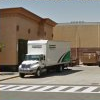crosswalk: (0, 83, 100, 92)
